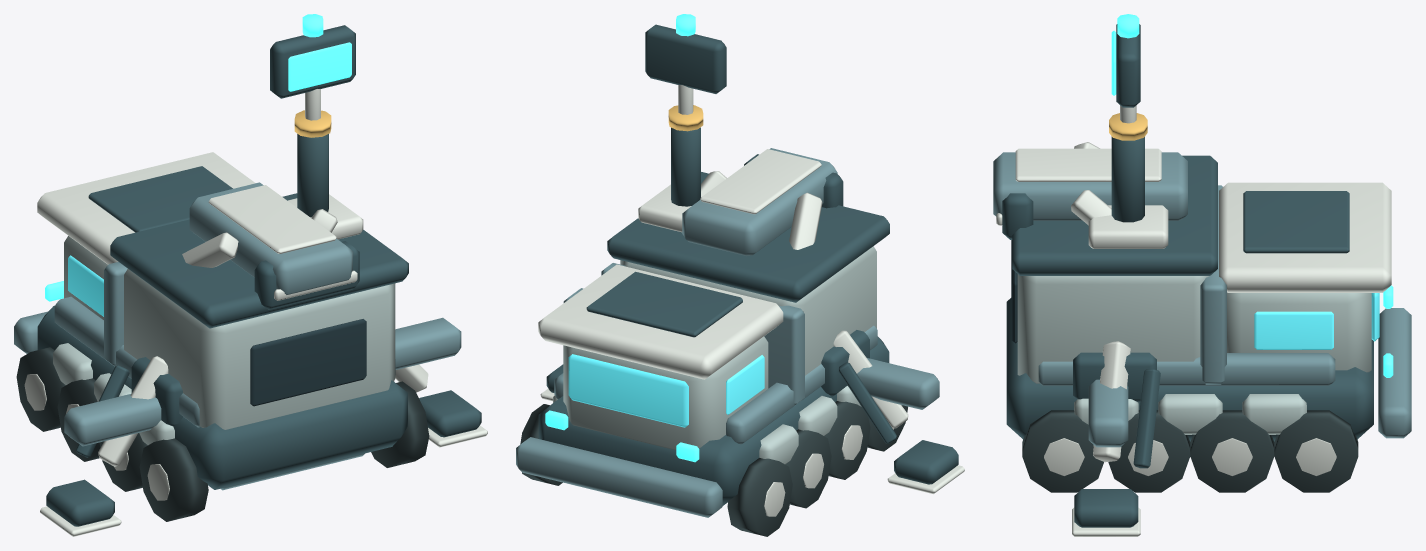
File: mcv.glb
3 views of the same model, side by side, from view 1: azimuth 30°, elevation 25°; view 2: azimuth 150°, elevation 25°; view 3: azimuth 270°, elevation 25° (orthographic). The views are drawn at different scales.
Visible parts, largest first — view 1: Mobile rig lower chassis, Wheel train armor segment, Wheel hub trim, Armored belly skid, Rear service recess, Run-flat wheel, Cab marker lamp, Run-flat wheel.003, Run-flat wheel.004, Run-flat wheel.002, Panoramic cab windshield, Run-flat wheel.001 (+1 smaller); view 2: Mobile rig lower chassis, Wheel hub trim, Armored belly skid, Wheel train armor segment, Panoramic cab windshield, Run-flat wheel.003, Run-flat wheel.002, Run-flat wheel.001, Cab marker lamp, Mast collar, Run-flat wheel.007; view 3: Mobile rig lower chassis, Wheel hub trim, Wheel train armor segment, Armored belly skid, Run-flat wheel.007, Run-flat wheel.006, Run-flat wheel.004, Panoramic cab windshield, Run-flat wheel.005, Cab marker lamp, Mast collar, Rear service recess.
Part boxes in pixels (box(x1,y1,x2,y2)): Mobile rig lower chassis: box(37, 25, 481, 526); Wheel train armor segment: box(53, 236, 395, 445); Wheel hub trim: box(24, 89, 487, 536); Armored belly skid: box(14, 182, 461, 490); Rear service recess: box(250, 319, 366, 406); Run-flat wheel: box(139, 438, 208, 521); Cab marker lamp: box(45, 14, 351, 301); Run-flat wheel.003: box(16, 347, 65, 431); Run-flat wheel.004: box(371, 381, 429, 467); Run-flat wheel.002: box(57, 378, 100, 461); Panoramic cab windshield: box(68, 255, 103, 316); Run-flat wheel.001: box(99, 433, 147, 491); Mobile rig lower chassis: box(538, 24, 958, 505); Wheel hub trim: box(538, 85, 964, 516); Armored belly skid: box(516, 148, 939, 517); Wheel train armor segment: box(553, 246, 876, 464); Panoramic cab windshield: box(568, 354, 764, 427); Run-flat wheel.003: box(727, 458, 792, 536); Run-flat wheel.002: box(785, 429, 831, 508); Run-flat wheel.001: box(824, 401, 870, 479); Cab marker lamp: box(545, 14, 699, 462); Mast collar: box(668, 105, 703, 131); Run-flat wheel.007: box(520, 404, 562, 485); Mobile rig lower chassis: box(1002, 24, 1373, 527); Wheel hub trim: box(996, 105, 1391, 536); Wheel train armor segment: box(1017, 274, 1371, 434); Armored belly skid: box(993, 152, 1411, 447); Run-flat wheel.007: box(1274, 410, 1358, 492); Run-flat wheel.006: box(1190, 410, 1274, 492); Run-flat wheel.004: box(1022, 410, 1103, 492); Panoramic cab windshield: box(1254, 293, 1379, 349); Run-flat wheel.005: box(1108, 410, 1190, 492); Cab marker lamp: box(1111, 14, 1393, 377); Mast collar: box(1109, 113, 1147, 140); Rear service recess: box(1011, 240, 1017, 343).
Bounding box in the file's own units: 2.23 × 2.22 × 1.89.
